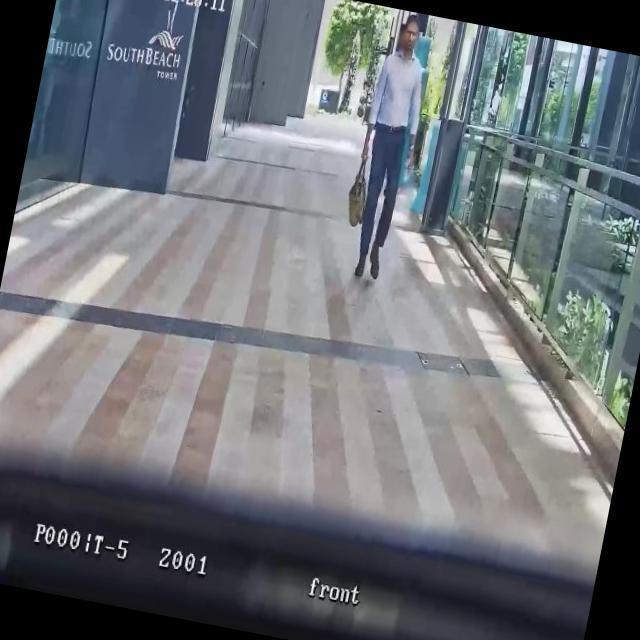person: (337, 12, 441, 284)
